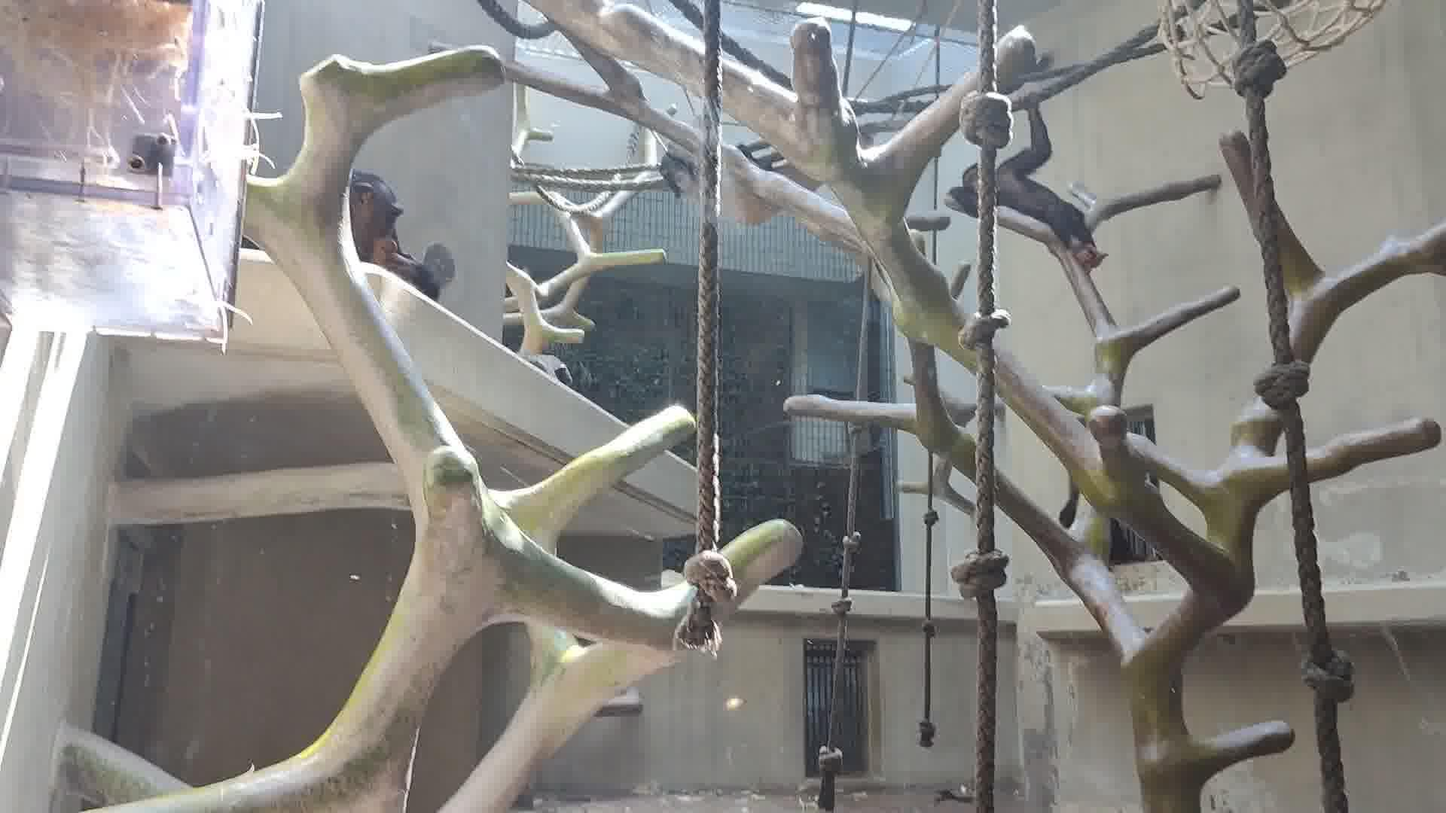boar: (949, 108, 1109, 271), (349, 168, 441, 302)
